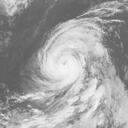cyclone: (38, 19, 99, 88)
